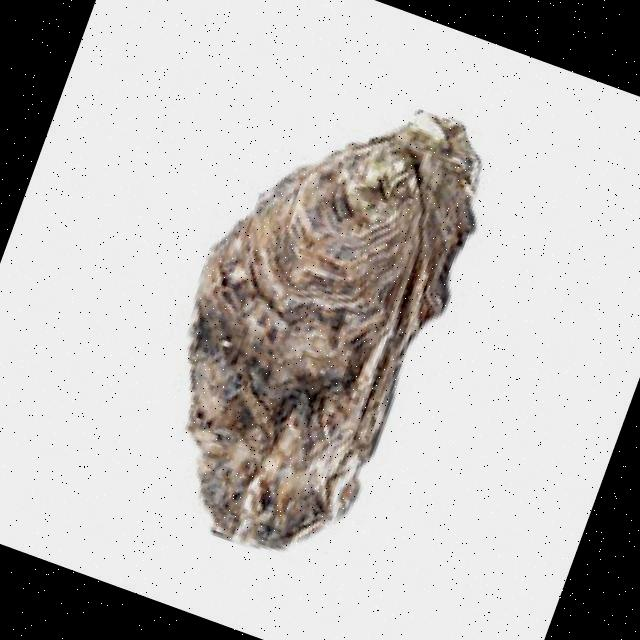Oyster-Closed: (186, 111, 482, 552)
